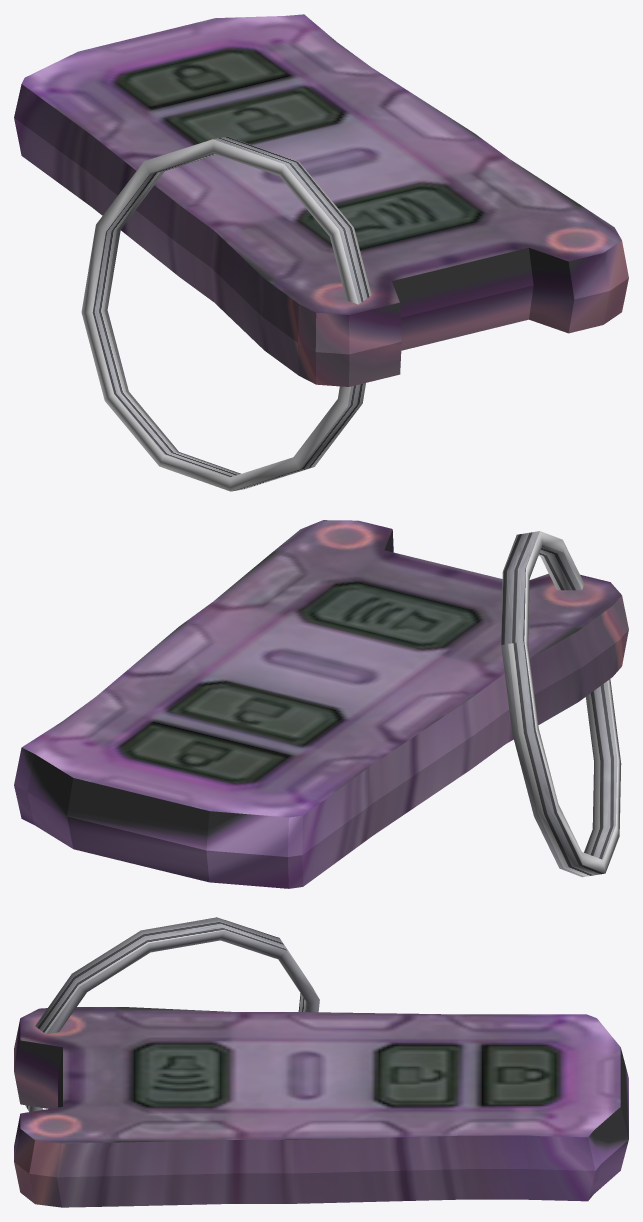
Rendered from key_fob_90s.fbx.
The picture shows the model from 3 angles, top to bottom: view 1: azimuth 30°, elevation 25°; view 2: azimuth 150°, elevation 25°; view 3: azimuth 270°, elevation 25°; orthographic projection. The views are drawn at different scales.
Parts seen in each view (by area): view 1: fob_90s; view 2: fob_90s; view 3: fob_90s.
Boxes of the visible parts, x1=… form: fob_90s: x1=14, y1=14, x2=628, y2=491; fob_90s: x1=14, y1=520, x2=628, y2=888; fob_90s: x1=14, y1=917, x2=628, y2=1207.
Bounding box in the file's own units: 10.99 × 8.05 × 16.42.
Materials: 1 (1 with a texture image).
